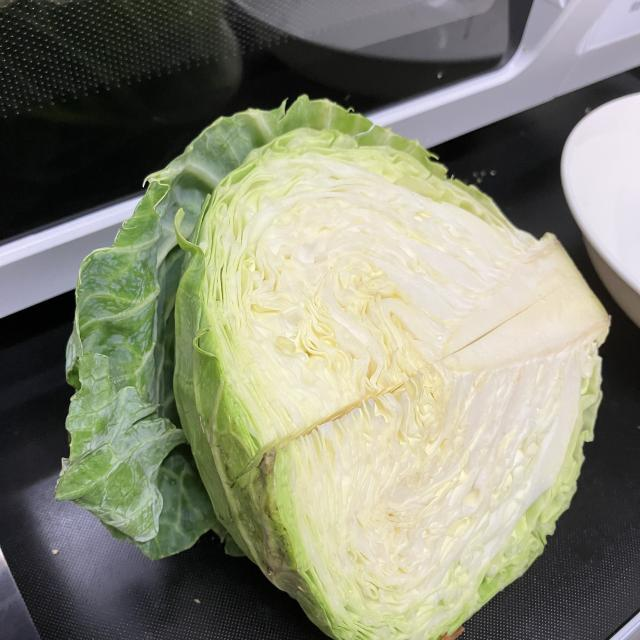haft-cabbage: (49, 92, 614, 640)
